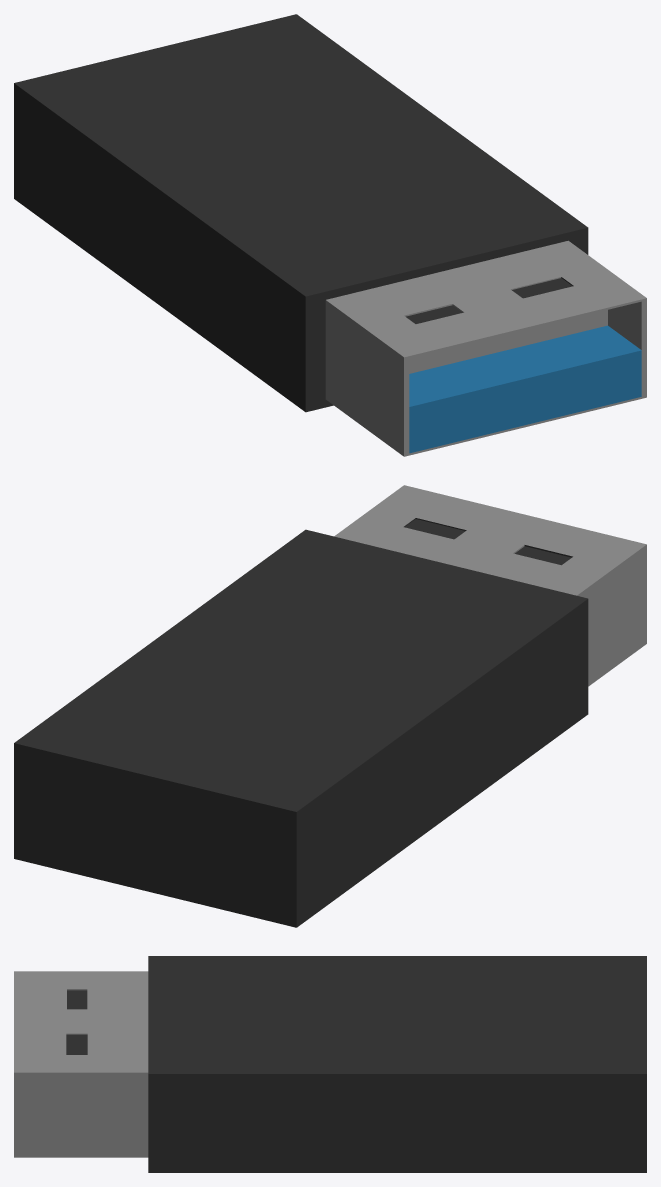
File: USB.fbx
3 renders of one model, top to bottom at view 1: azimuth 30°, elevation 25°; view 2: azimuth 150°, elevation 25°; view 3: azimuth 270°, elevation 25°, orthographic. The views are drawn at different scales.
Visible parts, largest first — view 1: Cube; view 2: Cube; view 3: Cube.
Boxes of the visible parts, box(x1,y1,x2,y2) form: Cube: box(14, 14, 646, 456); Cube: box(14, 485, 646, 927); Cube: box(14, 956, 646, 1172).
Size of the model in its own units: 511 by 200 by 1159.
